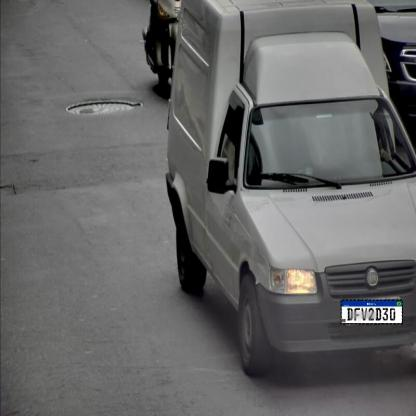PlacaM: (341, 300, 403, 324)
